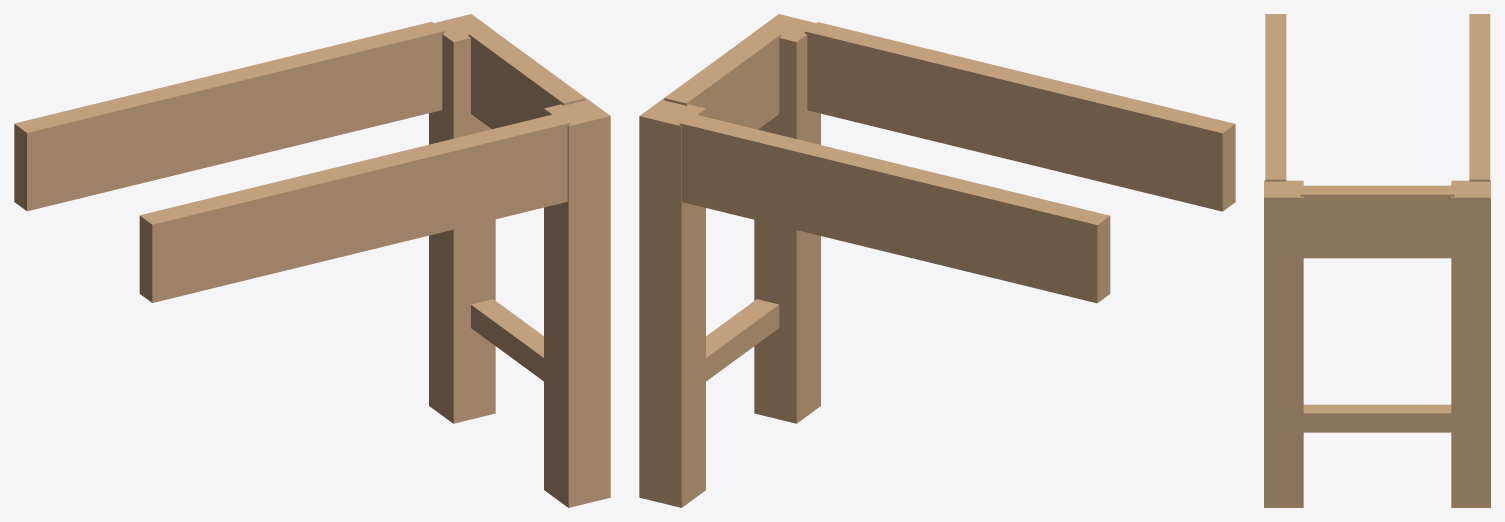
Rendered from stol.fbx.
The picture shows the model from 3 angles, left to right: view 1: azimuth 30°, elevation 25°; view 2: azimuth 150°, elevation 25°; view 3: azimuth 270°, elevation 25°; orthographic projection. The views are drawn at different scales.
Parts seen in each view (by area): view 1: Plane.004; view 2: Plane.004; view 3: Plane.004.
Part boxes in pixels (left/top/right/bottom): Plane.004: left=14, top=14, right=610, bottom=507; Plane.004: left=639, top=14, right=1235, bottom=507; Plane.004: left=1264, top=14, right=1490, bottom=507.
Bounding box in the file's own units: 2.52 × 2.02 × 1.33.
